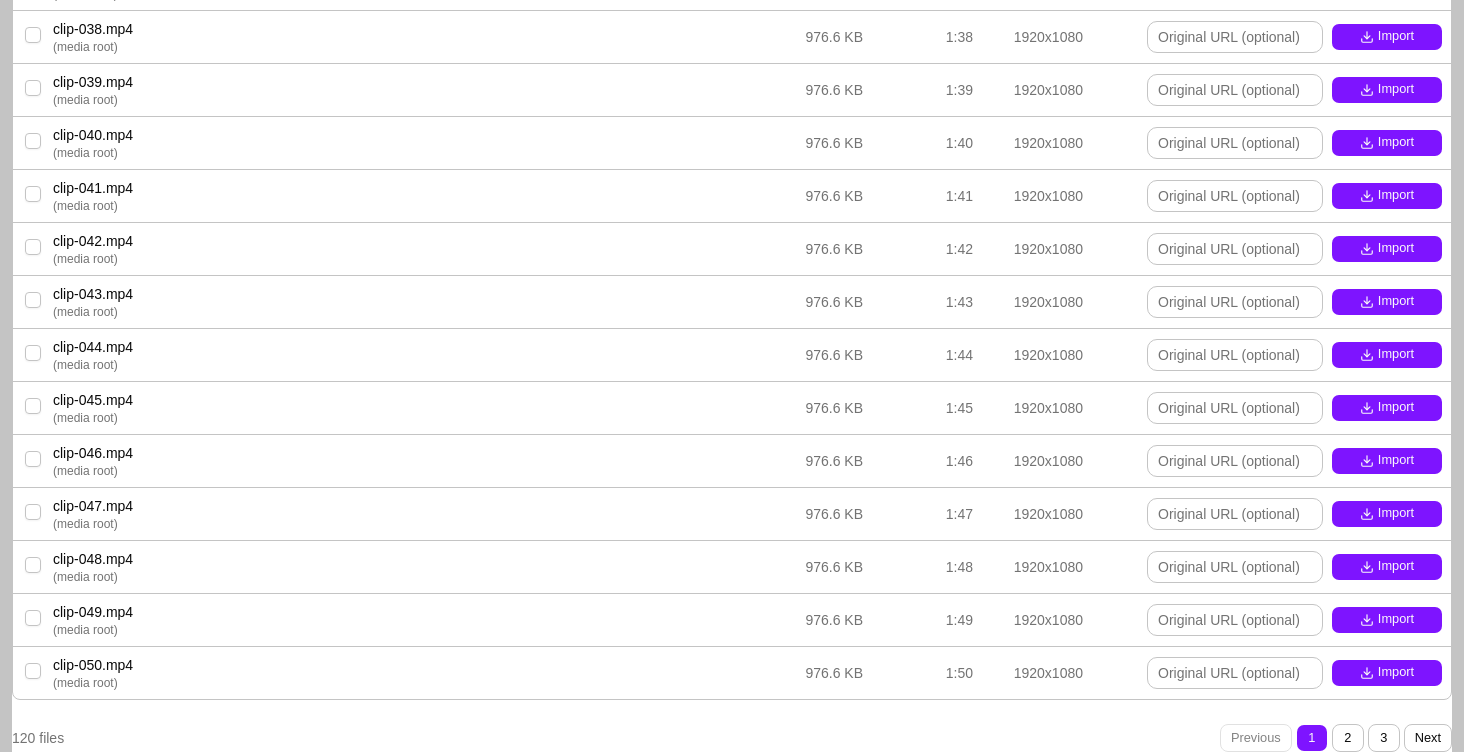
ImportPage table › search resets to page 1 and clears the selection
The image size is (1464, 752).
(page scrolled)
Click the button "3". click: (1384, 738)
box: [1368,724,1400,751]
(page scrolled)
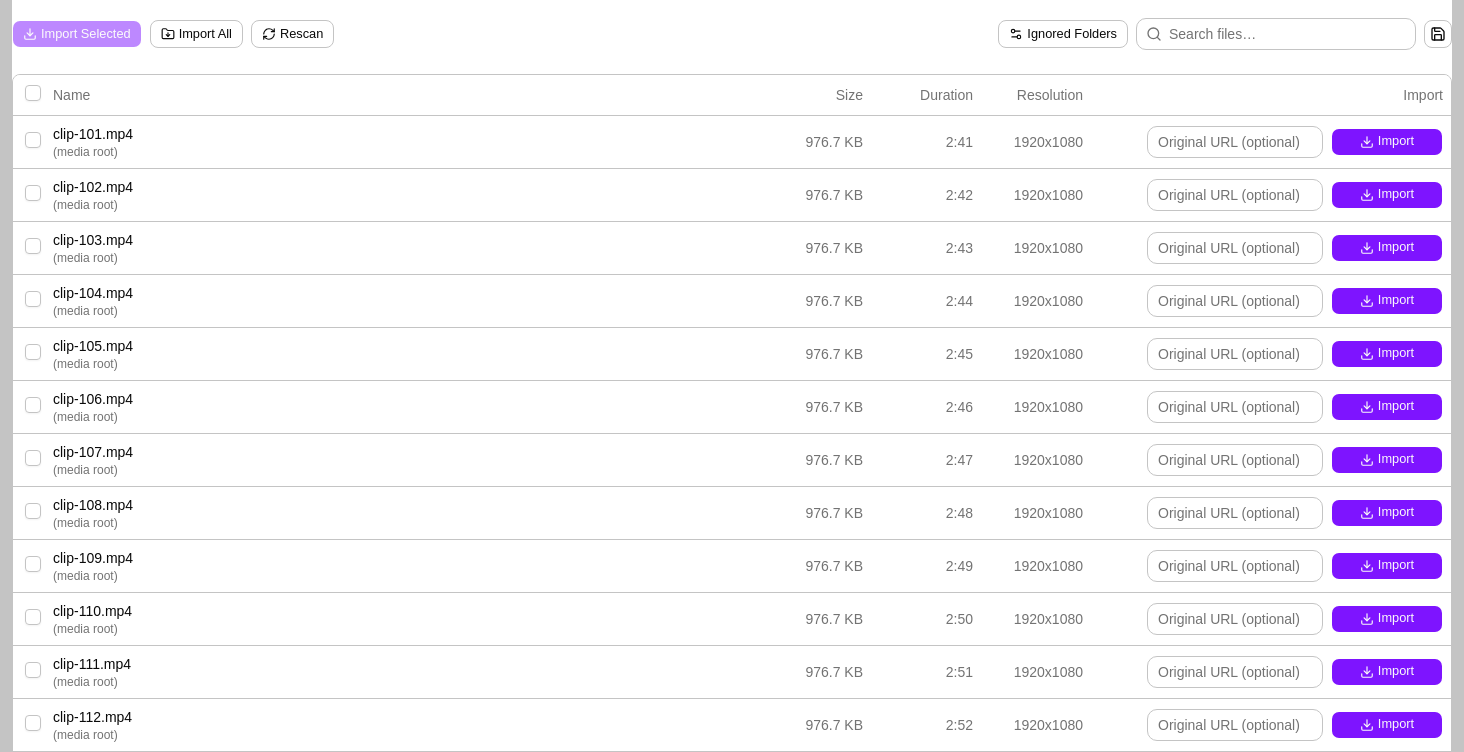
Press the mouse on the text "clip-101.mp4" at (732, 142), box [13,115,1451,168]
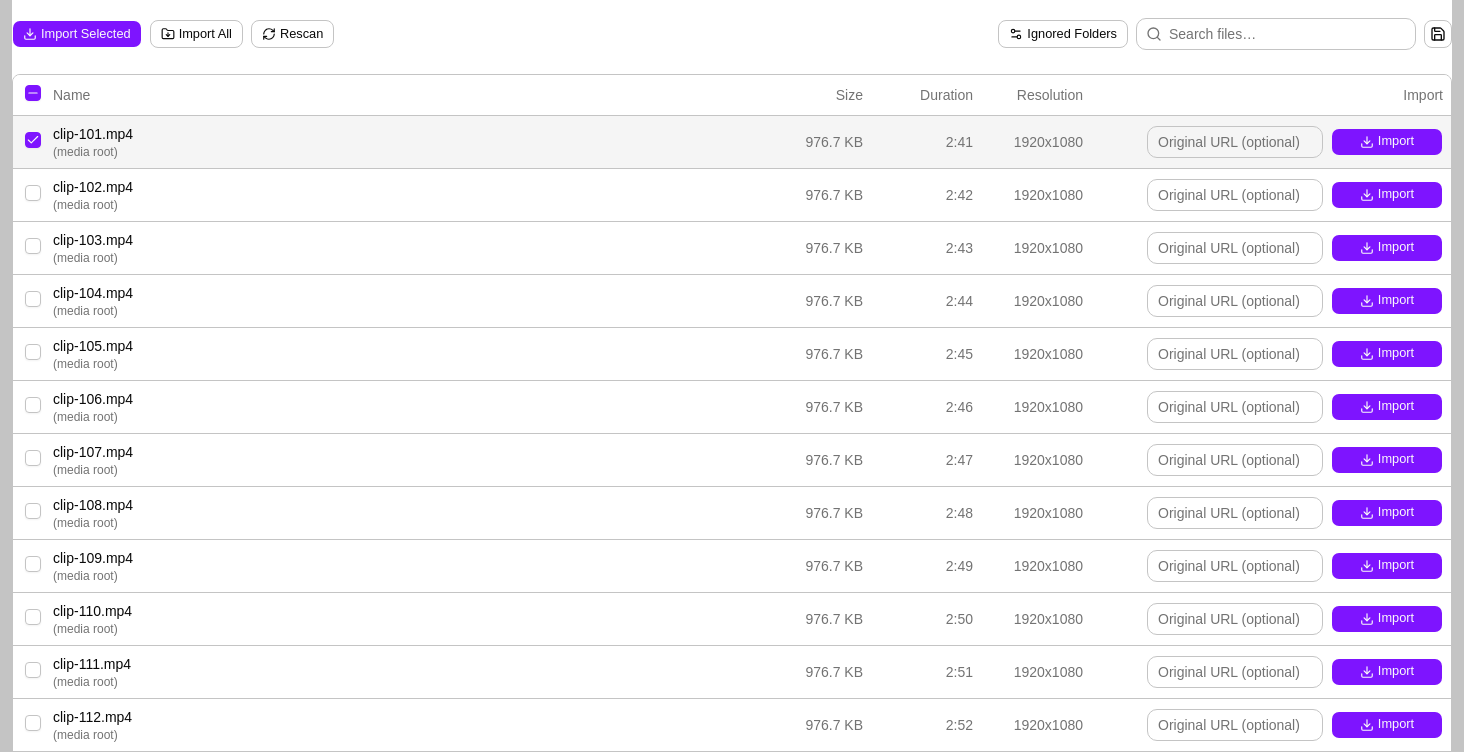
Type "clip-0" into the field with placeholder "Search files…". click: (1276, 34)
box: [1136,18,1416,50]
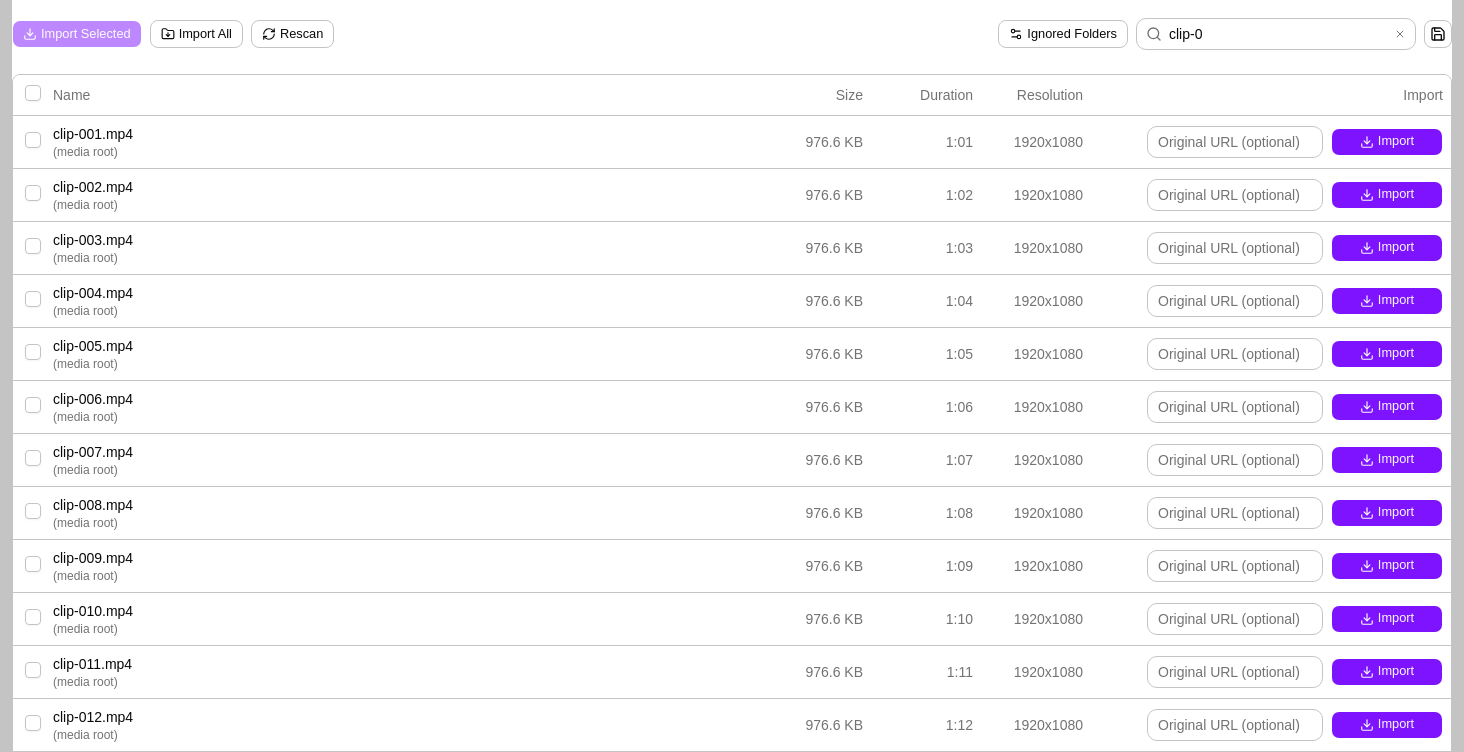
Check: the text "clip-001.mp4" is shown, box [53,126,133,142]
Check: the button "Import Selected" is disabled, box [12,20,142,48]
